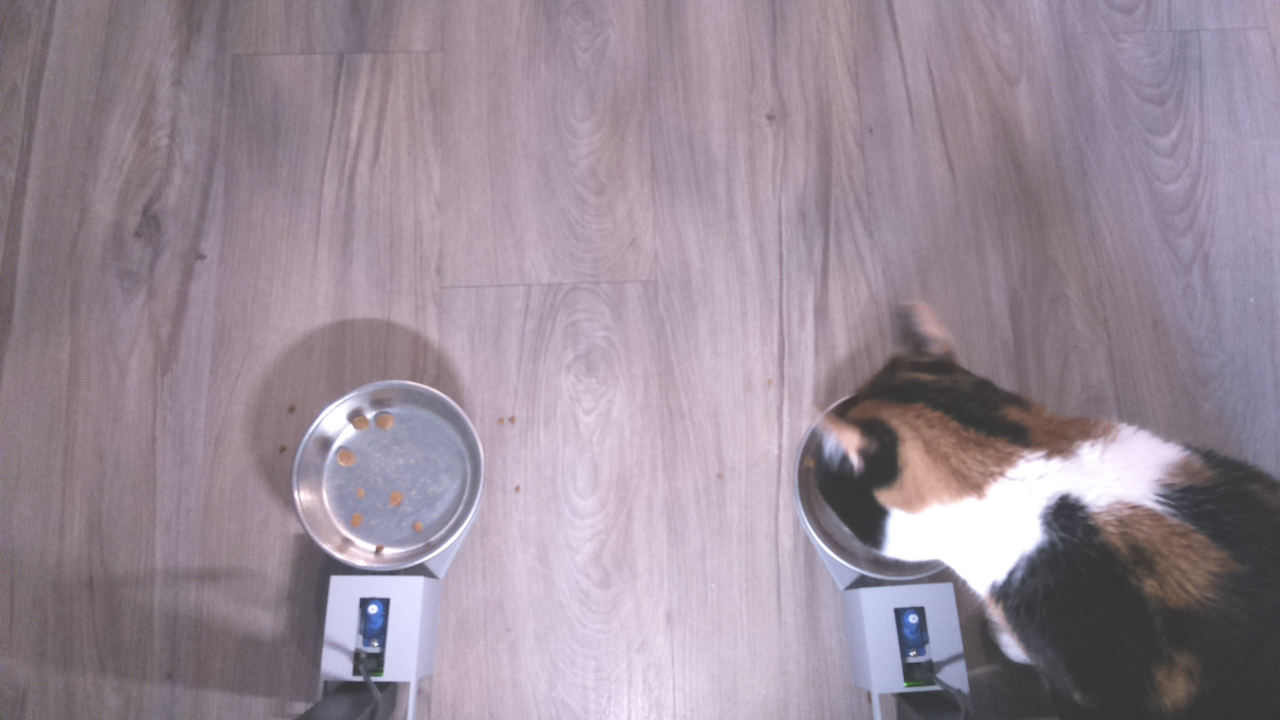bella_eating: (777, 292, 1079, 603)
open_bowl: (289, 375, 494, 576)
